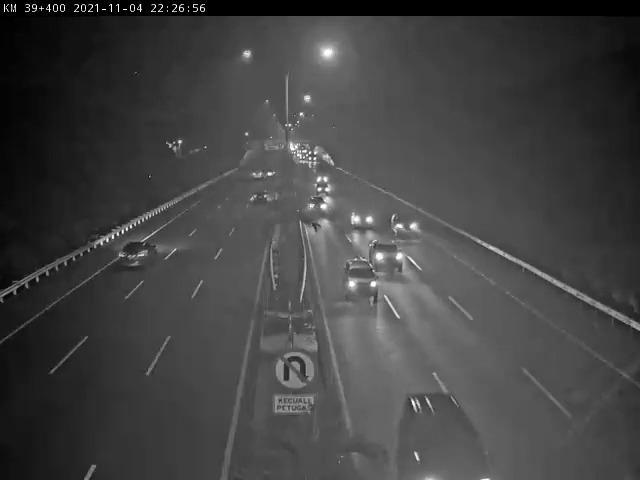car: (344, 257, 377, 301), (367, 236, 403, 273), (120, 239, 155, 269), (347, 207, 378, 229), (390, 213, 416, 238)
